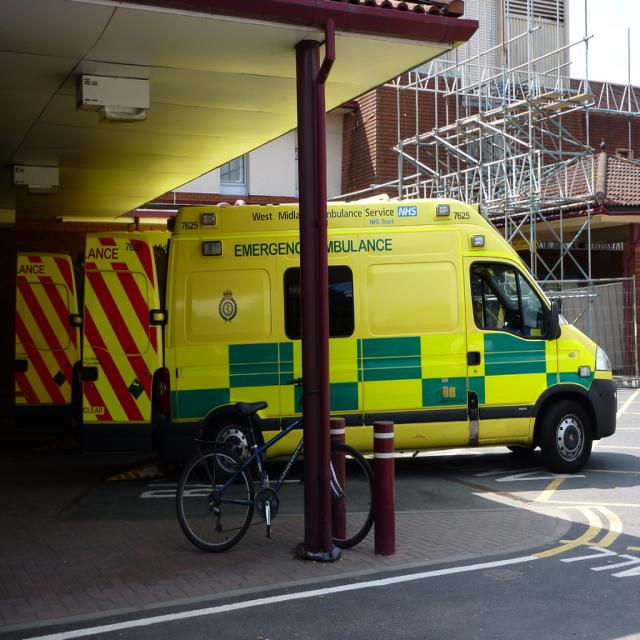Ambulance: (79, 198, 616, 486), (13, 251, 83, 406)
